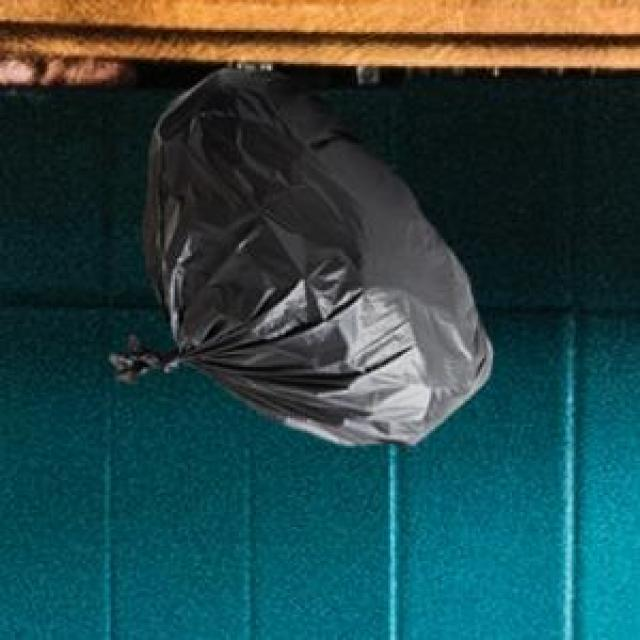miscellaneous trash: (107, 64, 489, 442)
